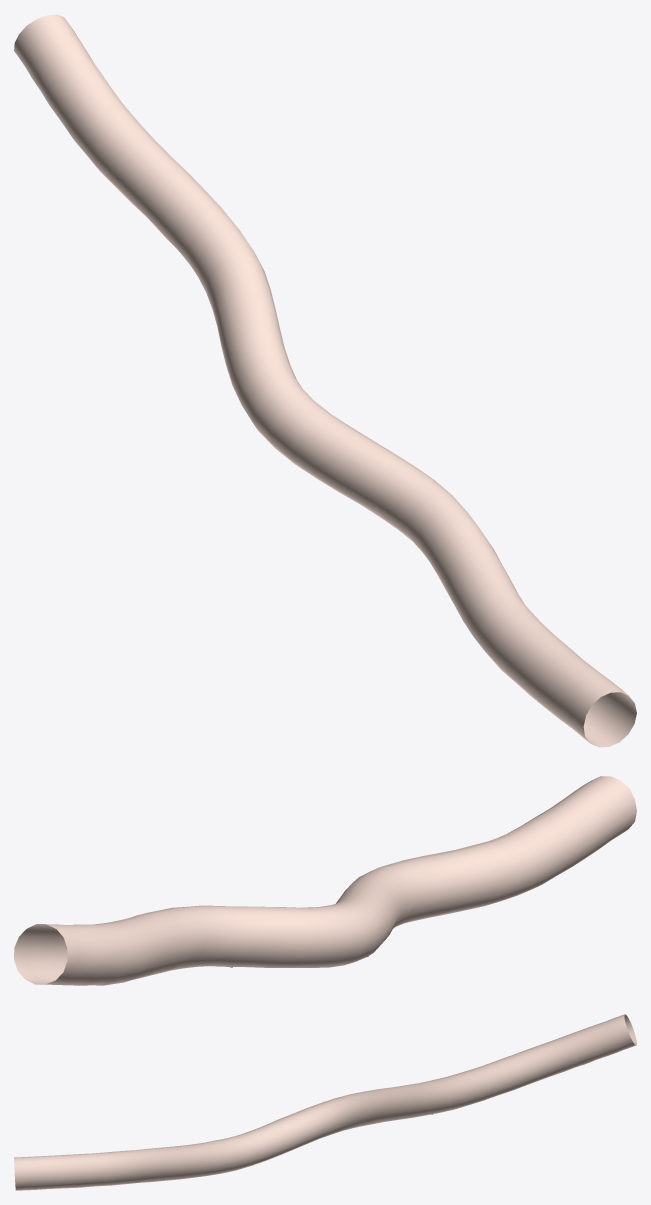
Rendered from stage_nose.glb.
3 renders of one model, top to bottom at view 1: azimuth 30°, elevation 25°; view 2: azimuth 150°, elevation 25°; view 3: azimuth 270°, elevation 25°, orthographic. The views are drawn at different scales.
Parts seen in each view (by area): view 1: Nose; view 2: Nose; view 3: Nose.
Boxes of the visible parts, bbox=[...] form: Nose: bbox=[14, 14, 636, 747]; Nose: bbox=[14, 776, 636, 985]; Nose: bbox=[14, 1014, 636, 1190].
Bounding box in the file's own units: 18.38 × 52.74 × 172.
